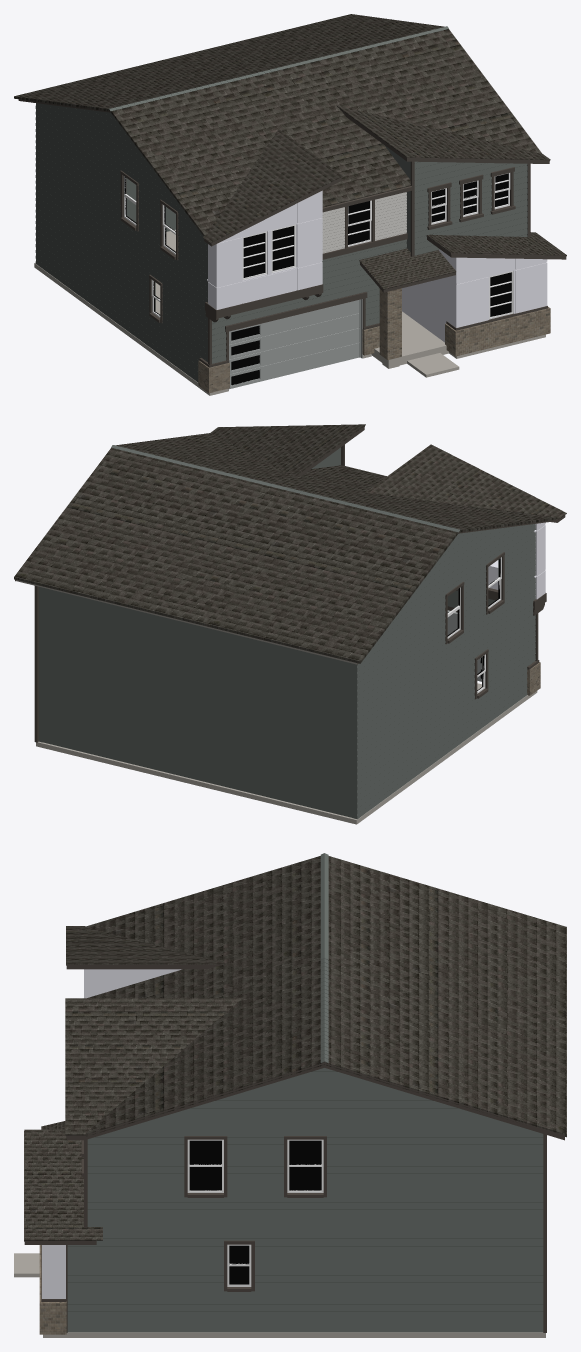
File: KBhomes_2345_elevation_contemporary.glb
3 renders of one model, top to bottom at view 1: azimuth 30°, elevation 25°; view 2: azimuth 150°, elevation 25°; view 3: azimuth 270°, elevation 25°, orthographic. The views are drawn at different scales.
Visible parts, largest first — view 1: Plane.003; view 2: Plane.003; view 3: Plane.003.
Boxes of the visible parts, left/top/right/bottom form: Plane.003: left=14, top=14, right=566, bottom=395; Plane.003: left=14, top=424, right=566, bottom=824; Plane.003: left=14, top=853, right=566, bottom=1337.
Size of the model in its own units: 12.72 by 8.08 by 14.21.
Materials: 12 (9 with a texture image).
